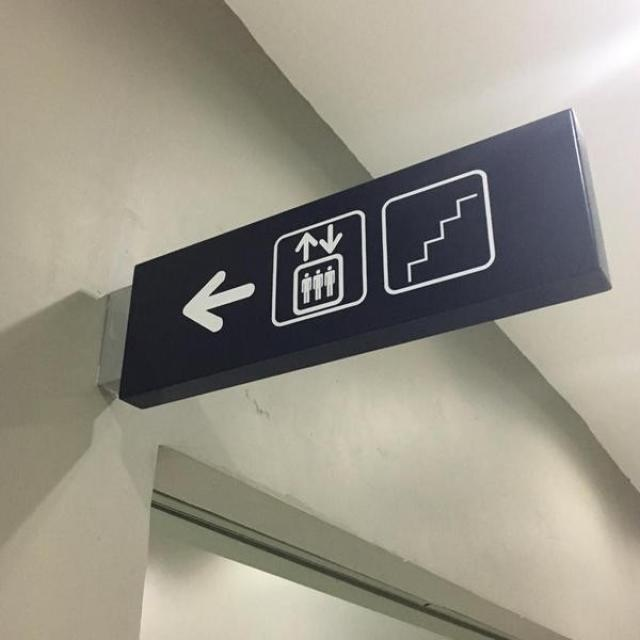lift_icon: (286, 218, 355, 319)
